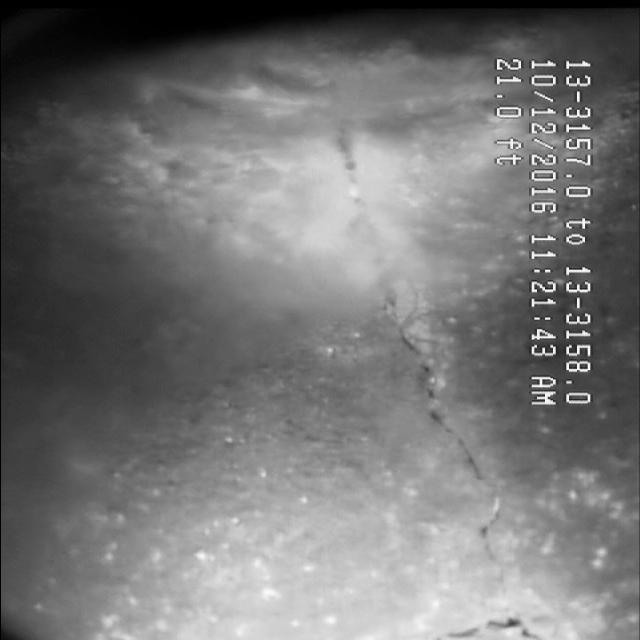Crack: (404, 292, 524, 614)
